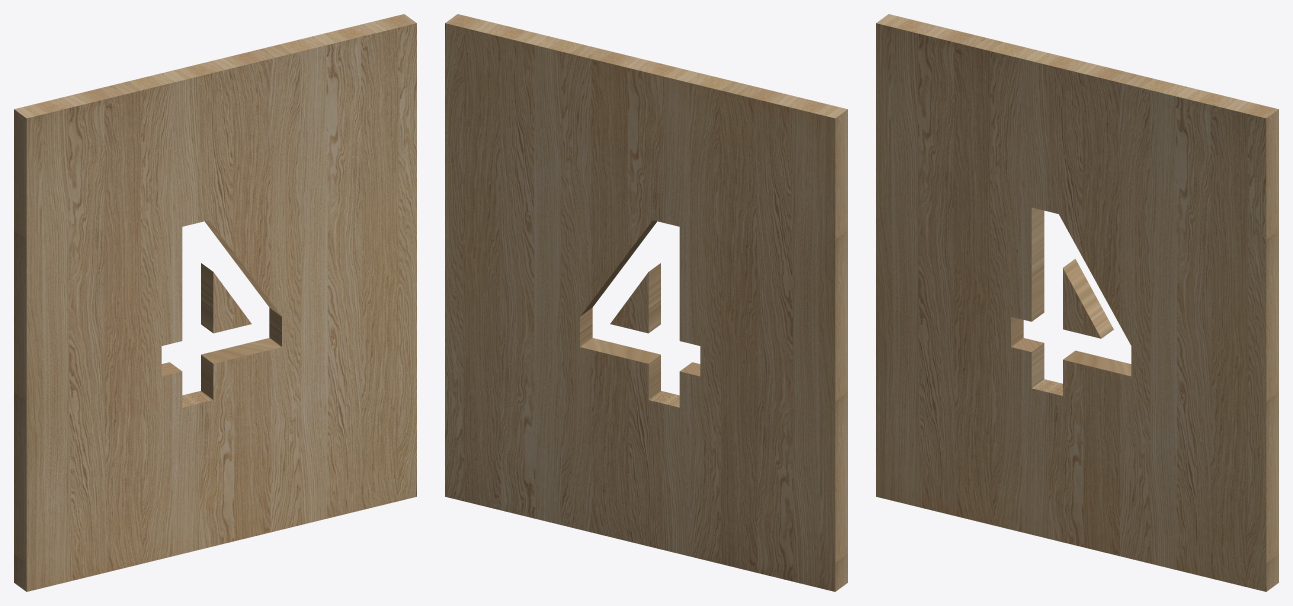
The picture shows the model from 3 angles, left to right: view 1: azimuth 30°, elevation 25°; view 2: azimuth 150°, elevation 25°; view 3: azimuth 330°, elevation 25°; orthographic projection.
Parts seen in each view (by area): view 1: so4; view 2: so4; view 3: so4.
Part boxes in pixels (x1,y1,x2,y2): so4: (14, 14, 416, 591); so4: (445, 14, 847, 591); so4: (876, 14, 1278, 591).
Bounding box in the file's own units: 2.89 × 3.36 × 0.1618.
Materials: 1 (1 with a texture image).
